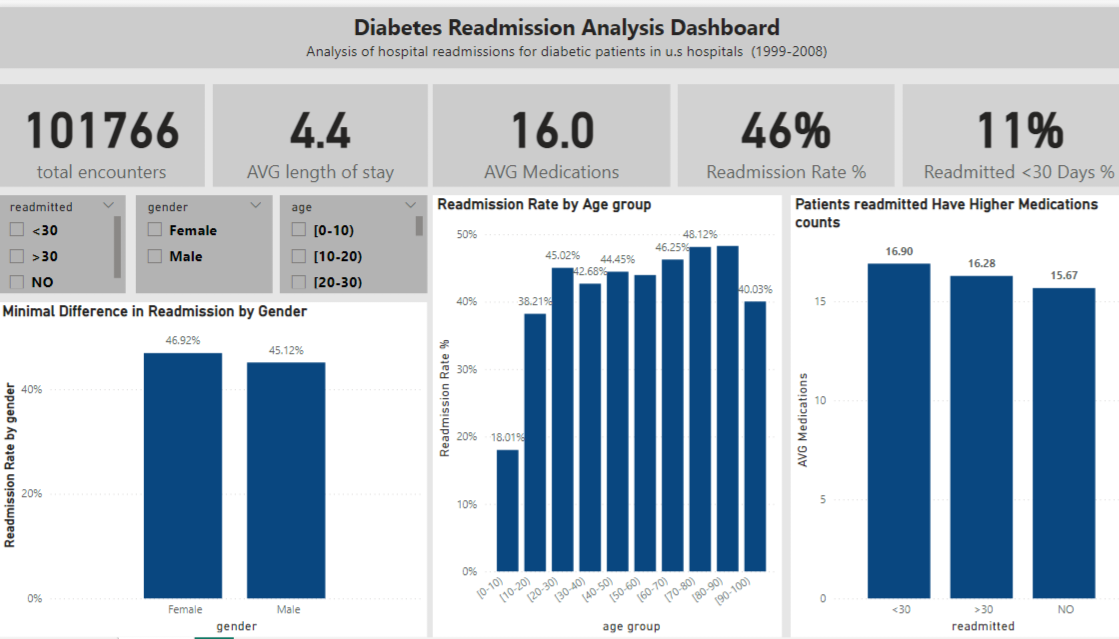

The page's visual inventory and layout, read from the dashboard file:
{"tool":"powerbi","page":{"name":"Page 1","canvas":[1280,720],"ordinal":0},"visuals":[{"type":"card","fields":{"Values":["final_diabetic_analytics.total encounters"]},"box":[7.9,85.5,229.5,113.6],"z":0},{"type":"card","fields":{"Values":["final_diabetic_analytics.Readmission Rate %"]},"box":[763.9,85.5,240.8,113.6],"z":1000},{"type":"card","fields":{"Values":["final_diabetic_analytics.Readmitted <30 Days %"]},"box":[1013.6,85.5,258.8,113.6],"z":2000},{"type":"card","fields":{"Values":["final_diabetic_analytics.AVG length of stay"]},"box":[246.4,85.5,238.5,113.6],"z":3000},{"type":"card","fields":{"Values":["final_diabetic_analytics.AVG Medications"]},"box":[491.6,85.5,264.4,113.6],"z":4000},{"type":"slicer","fields":{"Values":["final_diabetic_analytics.gender"]},"box":[160.9,209.2,151.9,109.1],"z":5000},{"type":"slicer","fields":{"Values":["final_diabetic_analytics.age"]},"box":[320.6,209.2,164.2,109.1],"z":6000},{"type":"slicer","fields":{"Values":["final_diabetic_analytics.readmitted"]},"box":[7.9,209.2,141.8,109.1],"z":7000},{"type":"clusteredColumnChart","title":"Readmission Rate Increases with Age","fields":{"Category":["final_diabetic_analytics.age"],"Y":["final_diabetic_analytics.Readmission Rate %"]},"box":[491.6,209.2,388.1,490.5],"z":8000},{"type":"clusteredColumnChart","title":"Minimal Difference in Readmission by Gender","fields":{"Category":["final_diabetic_analytics.gender"],"Y":["final_diabetic_analytics.Readmission Rate %"]},"box":[7.9,327.4,477,372.4],"z":9000},{"type":"clusteredColumnChart","title":"Patients readmitted Have Higher  Medications  counts ","fields":{"Category":["final_diabetic_analytics.readmitted"],"Y":["final_diabetic_analytics.AVG Medications"]},"box":[888.8,209.2,383.6,490.5],"z":10000},{"type":"textbox","box":[7.9,0,1264.5,67.5],"z":10002}]}

Visuals, with their boxes in screenshot pixels (x1, y1, x2, y2), scaled from the page's 1280x720 canvas onto the 1119x639 screenshot:
card - final_diabetic_analytics.total encounters: pyautogui.locateOnScreen(7, 76, 208, 177)
card - final_diabetic_analytics.Readmission Rate %: pyautogui.locateOnScreen(668, 76, 878, 177)
card - final_diabetic_analytics.Readmitted <30 Days %: pyautogui.locateOnScreen(886, 76, 1112, 177)
card - final_diabetic_analytics.AVG length of stay: pyautogui.locateOnScreen(215, 76, 424, 177)
card - final_diabetic_analytics.AVG Medications: pyautogui.locateOnScreen(430, 76, 661, 177)
slicer - final_diabetic_analytics.gender: pyautogui.locateOnScreen(141, 186, 273, 282)
slicer - final_diabetic_analytics.age: pyautogui.locateOnScreen(280, 186, 424, 282)
slicer - final_diabetic_analytics.readmitted: pyautogui.locateOnScreen(7, 186, 131, 282)
"Readmission Rate Increases with Age" clusteredColumnChart: pyautogui.locateOnScreen(430, 186, 769, 621)
"Minimal Difference in Readmission by Gender" clusteredColumnChart: pyautogui.locateOnScreen(7, 291, 424, 621)
"Patients readmitted Have Higher  Medications  counts " clusteredColumnChart: pyautogui.locateOnScreen(777, 186, 1112, 621)
textbox: pyautogui.locateOnScreen(7, 0, 1112, 60)
